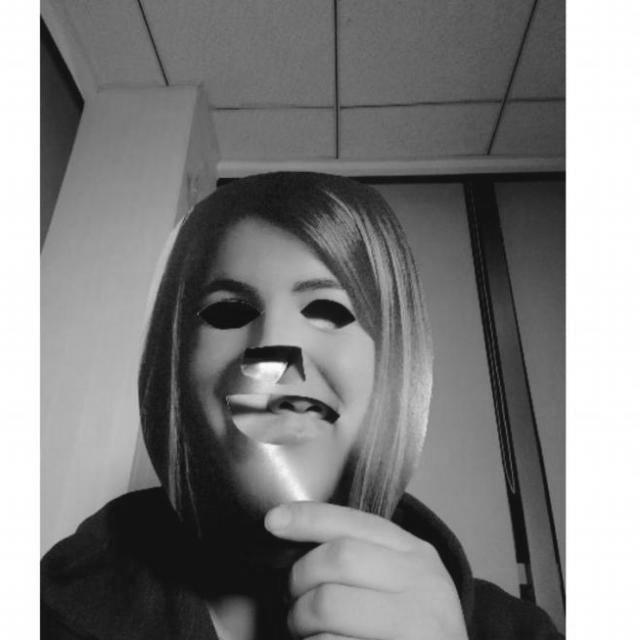fake: (134, 164, 438, 564)
